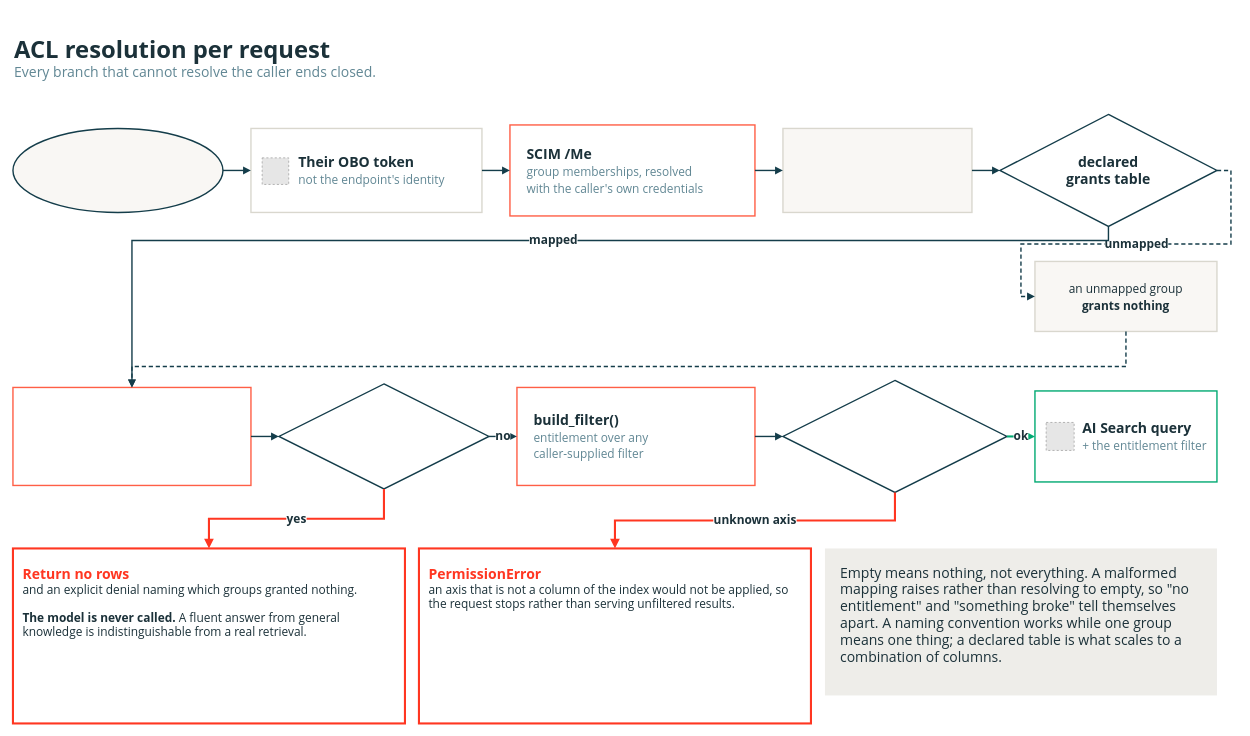
This 1250x736 diagram has some shape labels left out. Grey dashed boxes stand in for pictures. Here are the shapes that lost their labels. From the top down, the centre of each, then its label:
At [117,170]: "Caller a human, in a front end".
At [877,170]: "groups [group-a, group-b, …]".
At [131,436]: "Entitlements source_systems · site_ids sensitivity_labels".
At [383,436]: "is_empty?".
At [894,436]: "assert_ enforceable".
